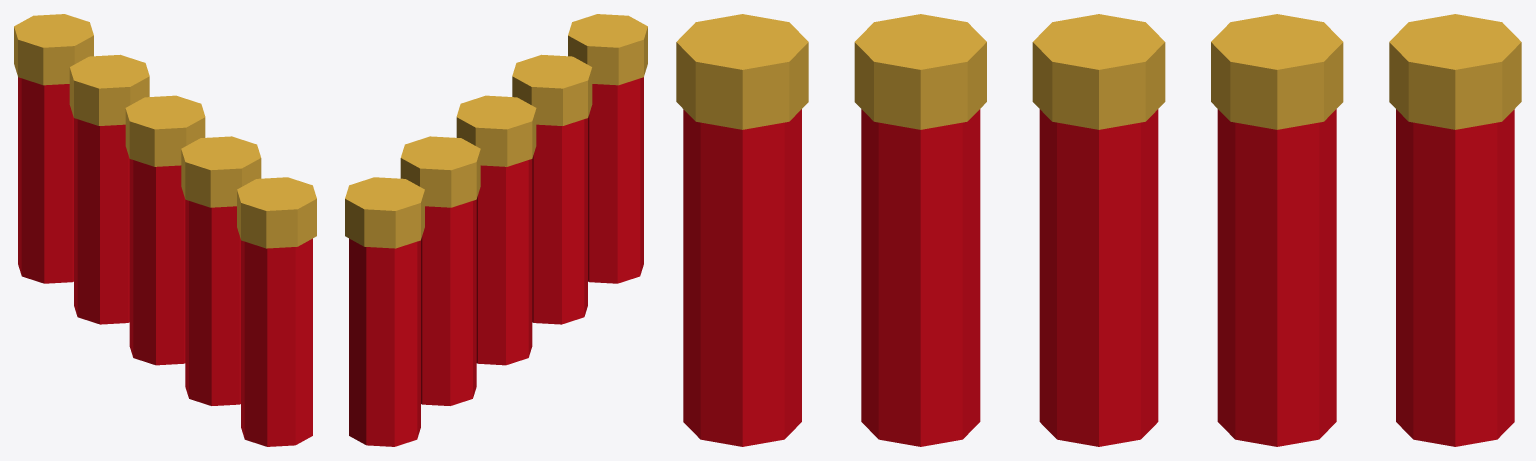
File: Shotgun_ammo.glb
3 renders of one model, left to right at view 1: azimuth 30°, elevation 25°; view 2: azimuth 150°, elevation 25°; view 3: azimuth 270°, elevation 25°, orthographic. The views are drawn at different scales.
Visible parts, largest first — view 1: Cylinder; view 2: Cylinder; view 3: Cylinder.
Boxes of the visible parts, x1,y1,x2,y2 form: Cylinder: (14,14,316,446); Cylinder: (345,14,647,446); Cylinder: (676,14,1521,446).
Size of the model in its own units: 0.2228 by 0.7057 by 1.42.
